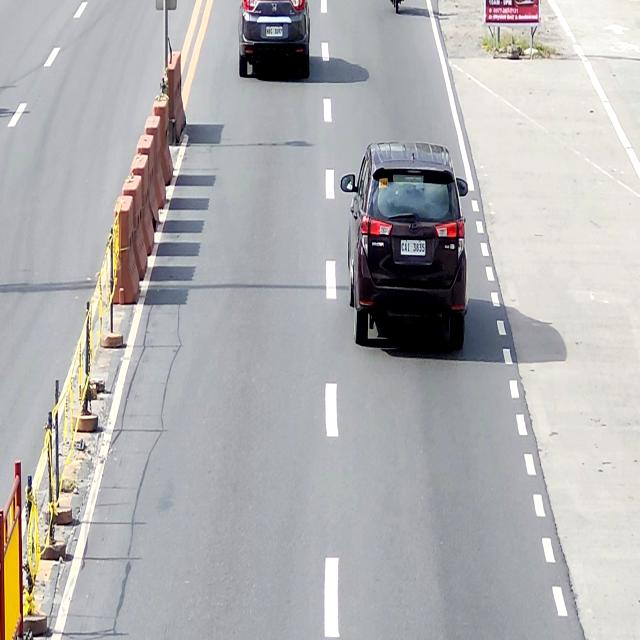Car: (340, 140, 469, 348), (238, 0, 310, 78)
License-Plate: (399, 237, 427, 257), (265, 22, 283, 41)
